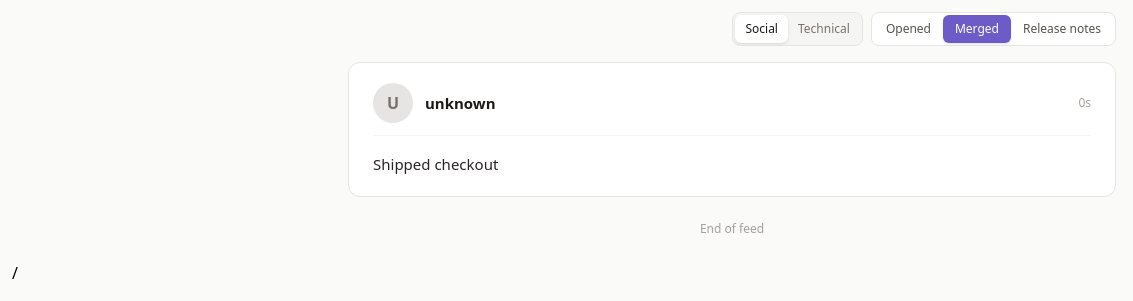
it: PostsTab › opens the related pull request when a post card is clicked
Click the link with aria-label "Open PR #973".
click(732, 130)  # box [348,62,1116,197]
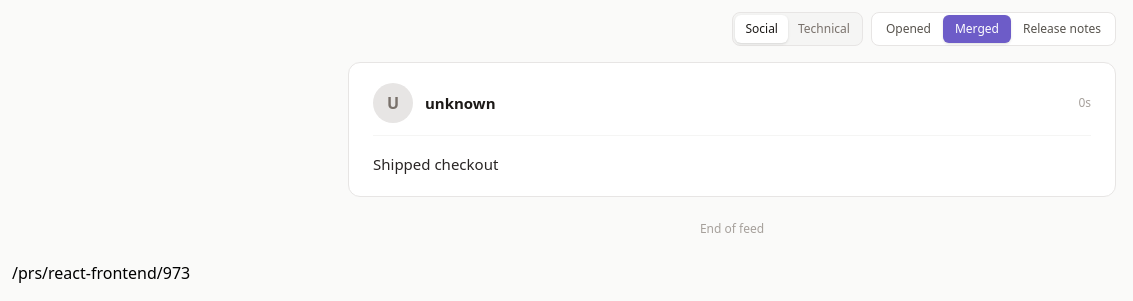
Expected: the text with test id "location" reads "/prs/react-frontend/973", [12,262,190,284]
